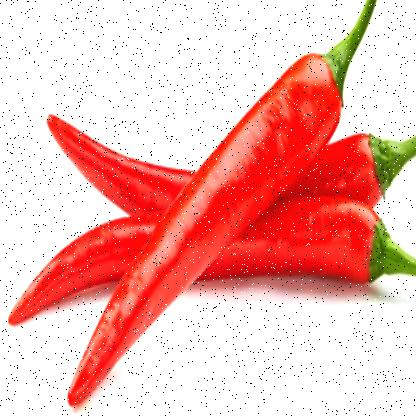chili: (6, 14, 396, 405)
